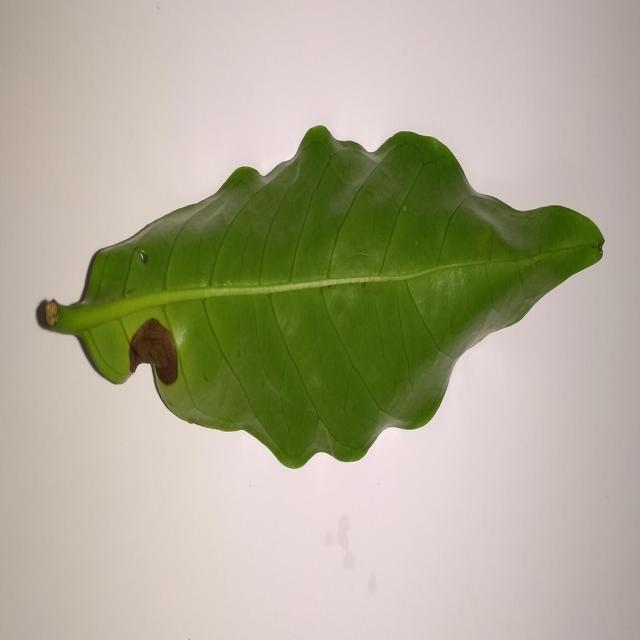phoma: (129, 318, 178, 414)
